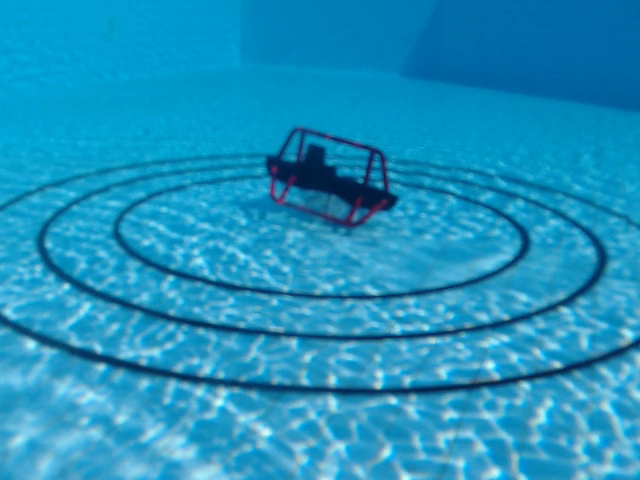submarine: (266, 126, 400, 230)
